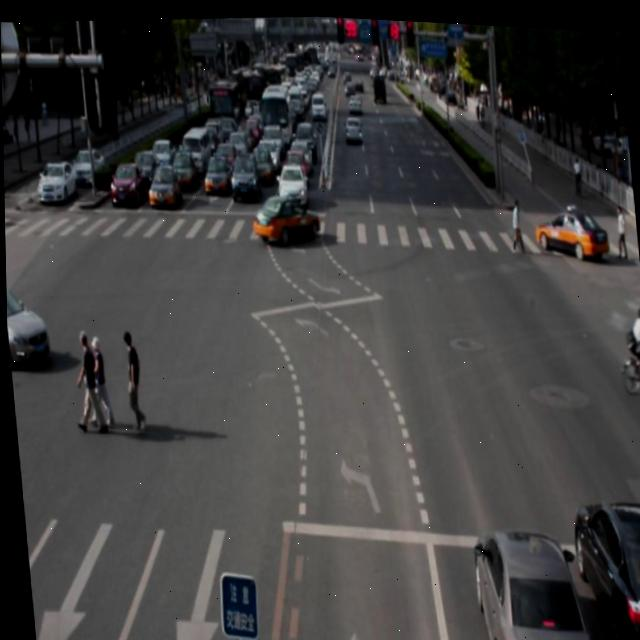car: (467, 524, 582, 640), (566, 494, 640, 640), (246, 184, 320, 243)
